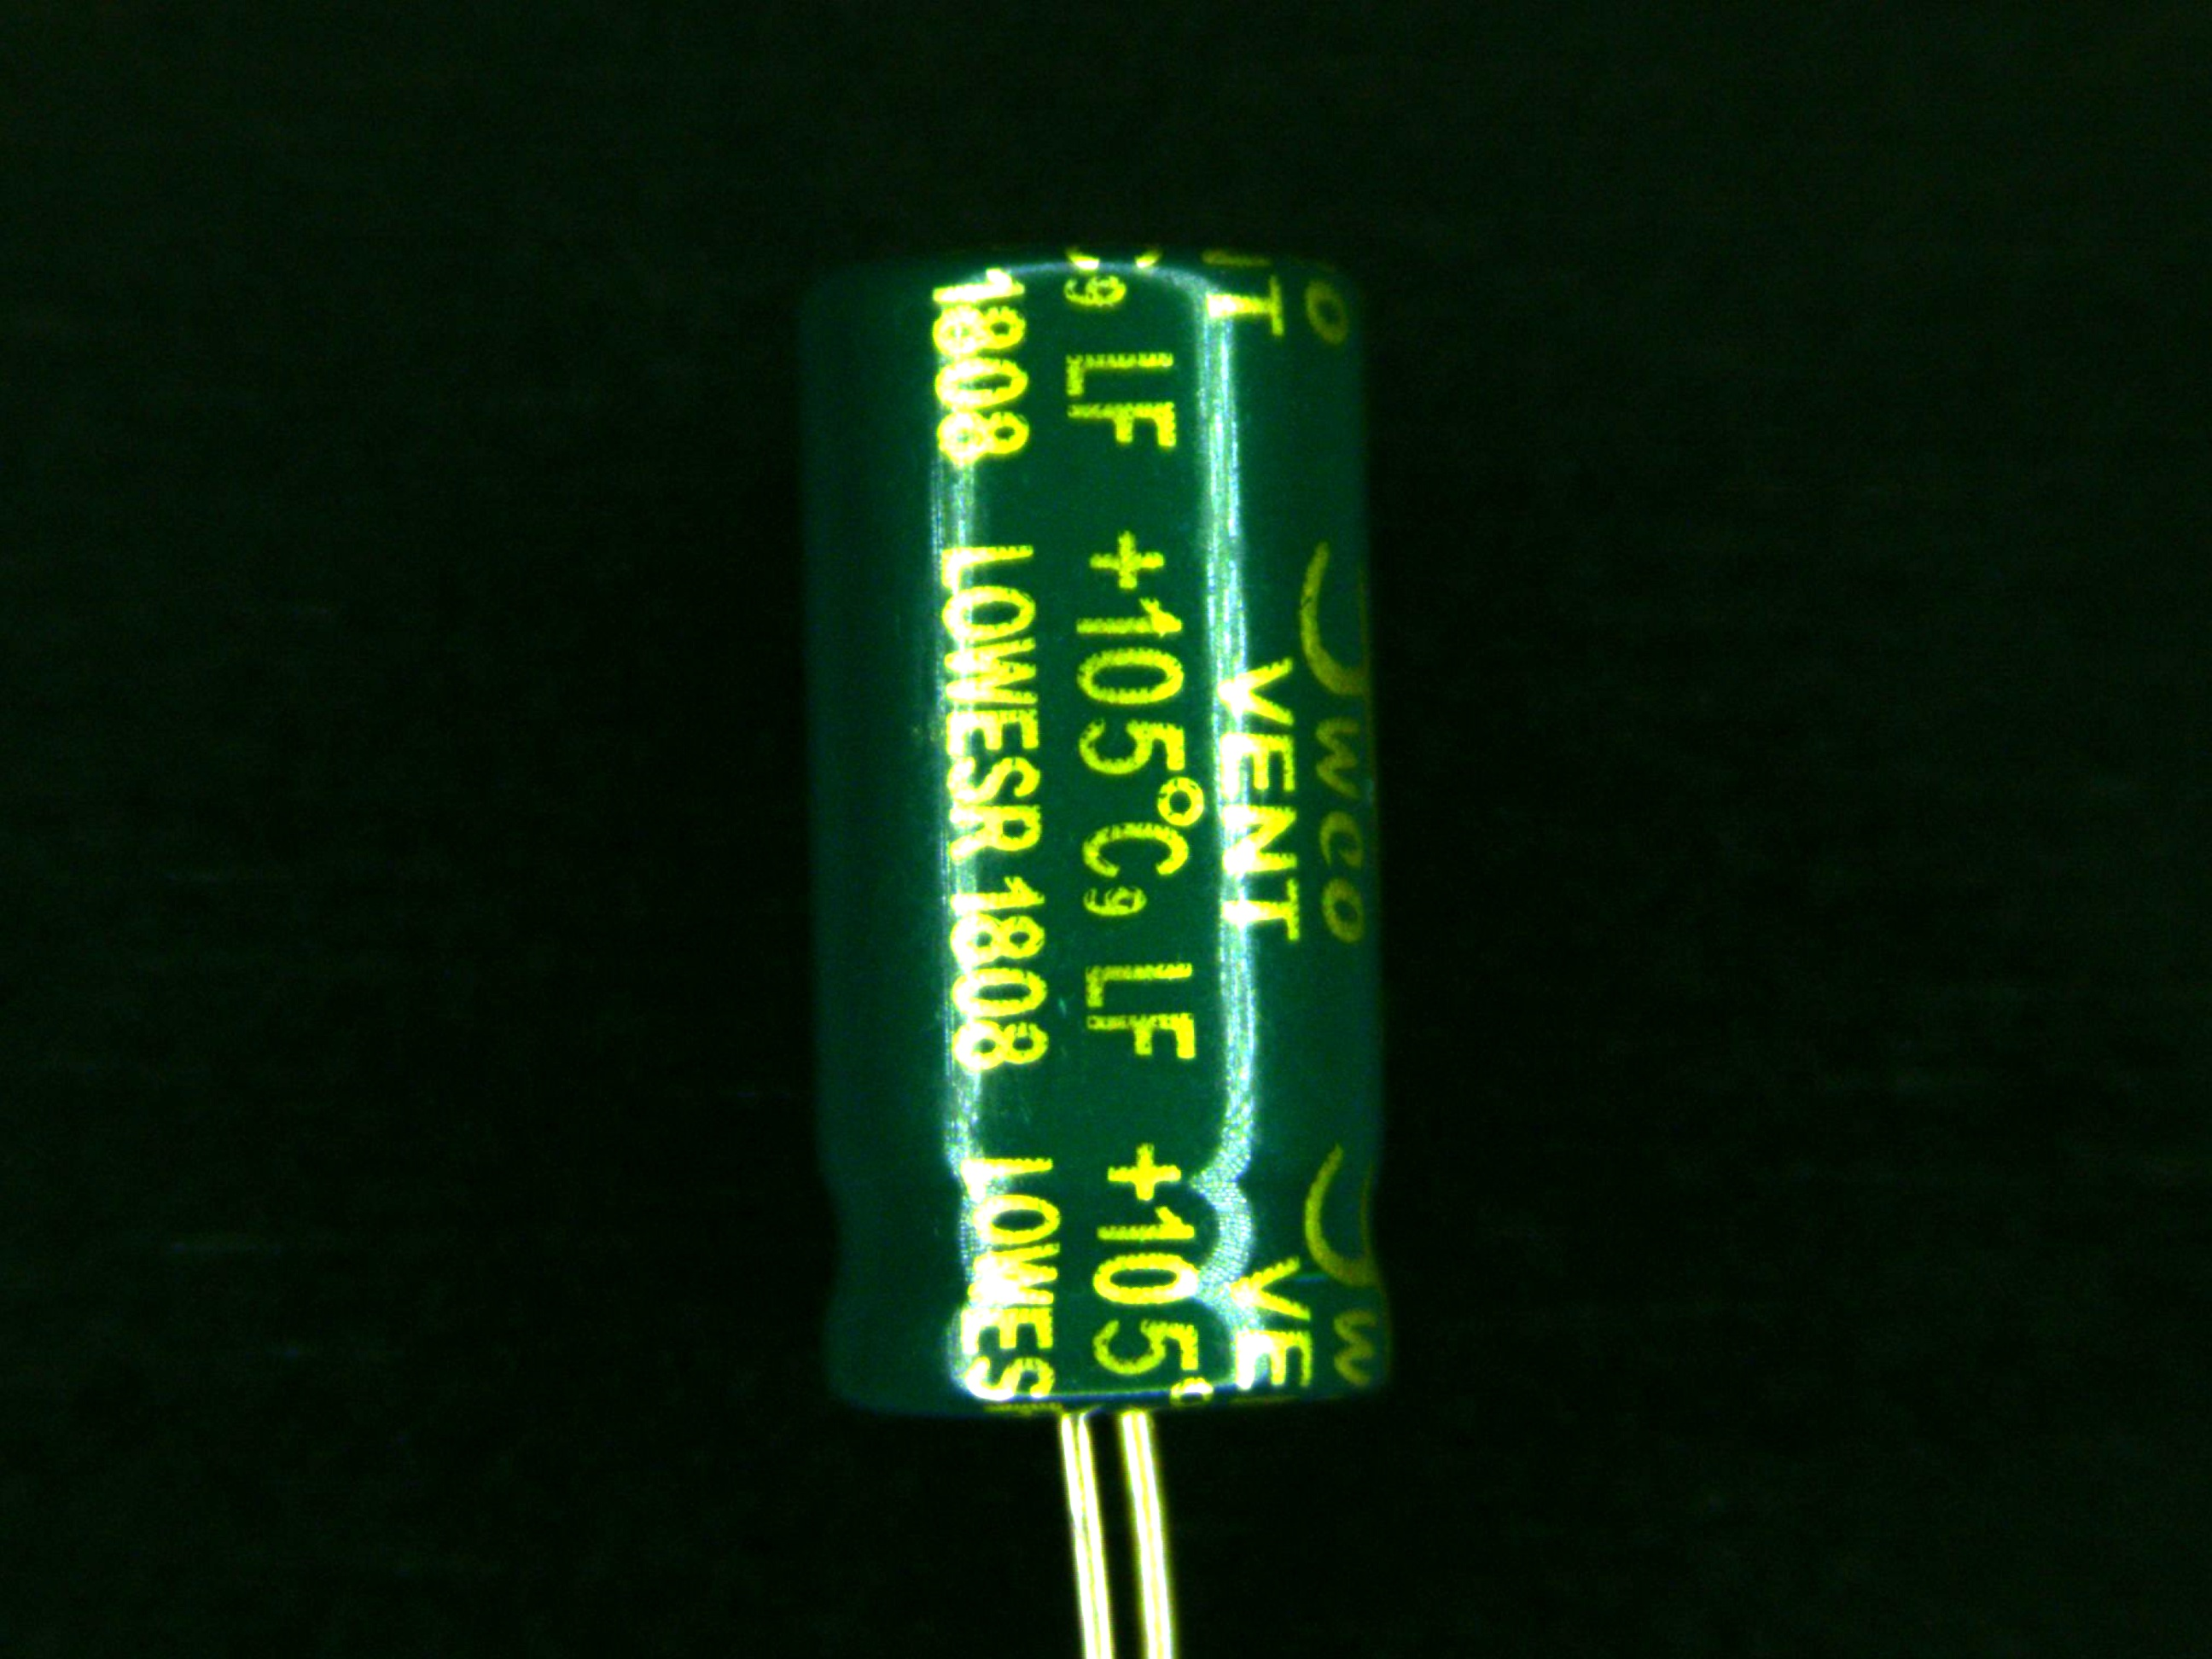c1: (798, 253, 1407, 1530)
